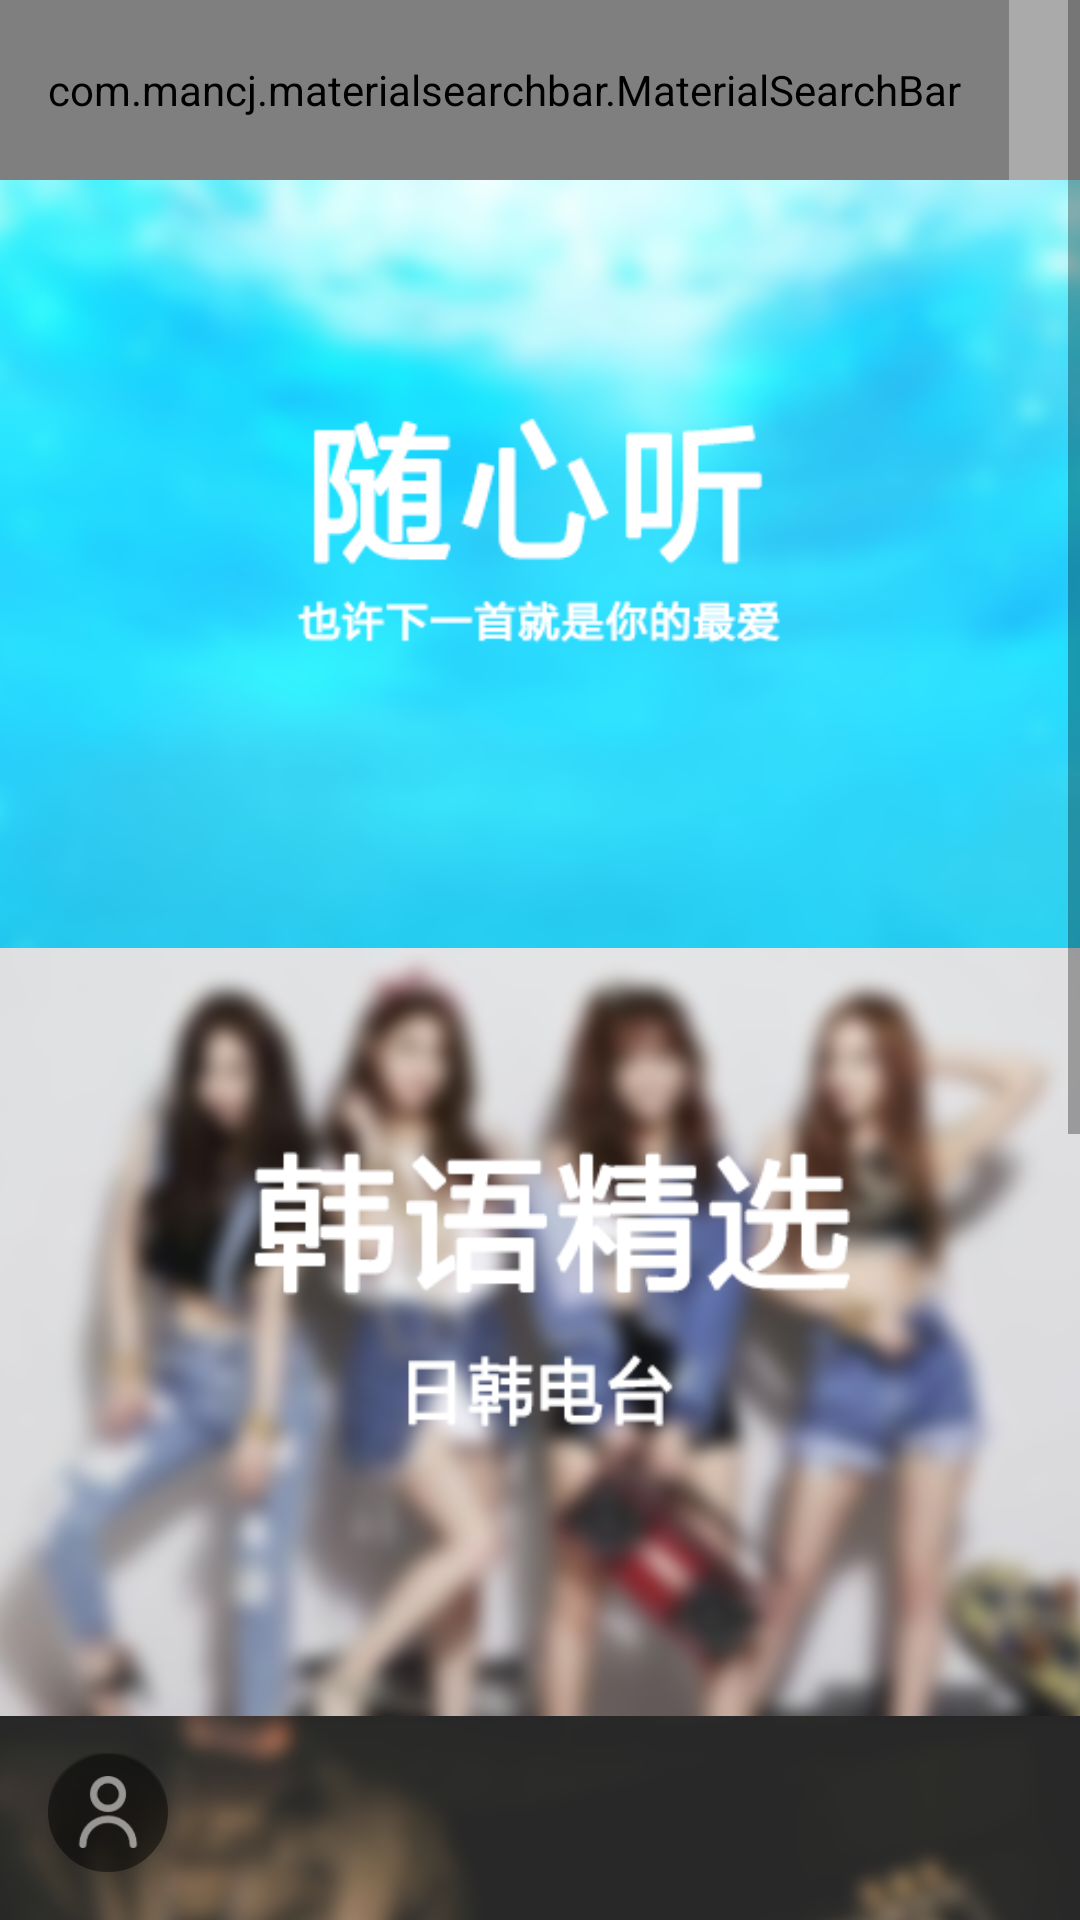

Icons on this 1080 × 1920 Android screen, each with the point to tap as (x=x, y=y):
user: (x=108, y=1813)
